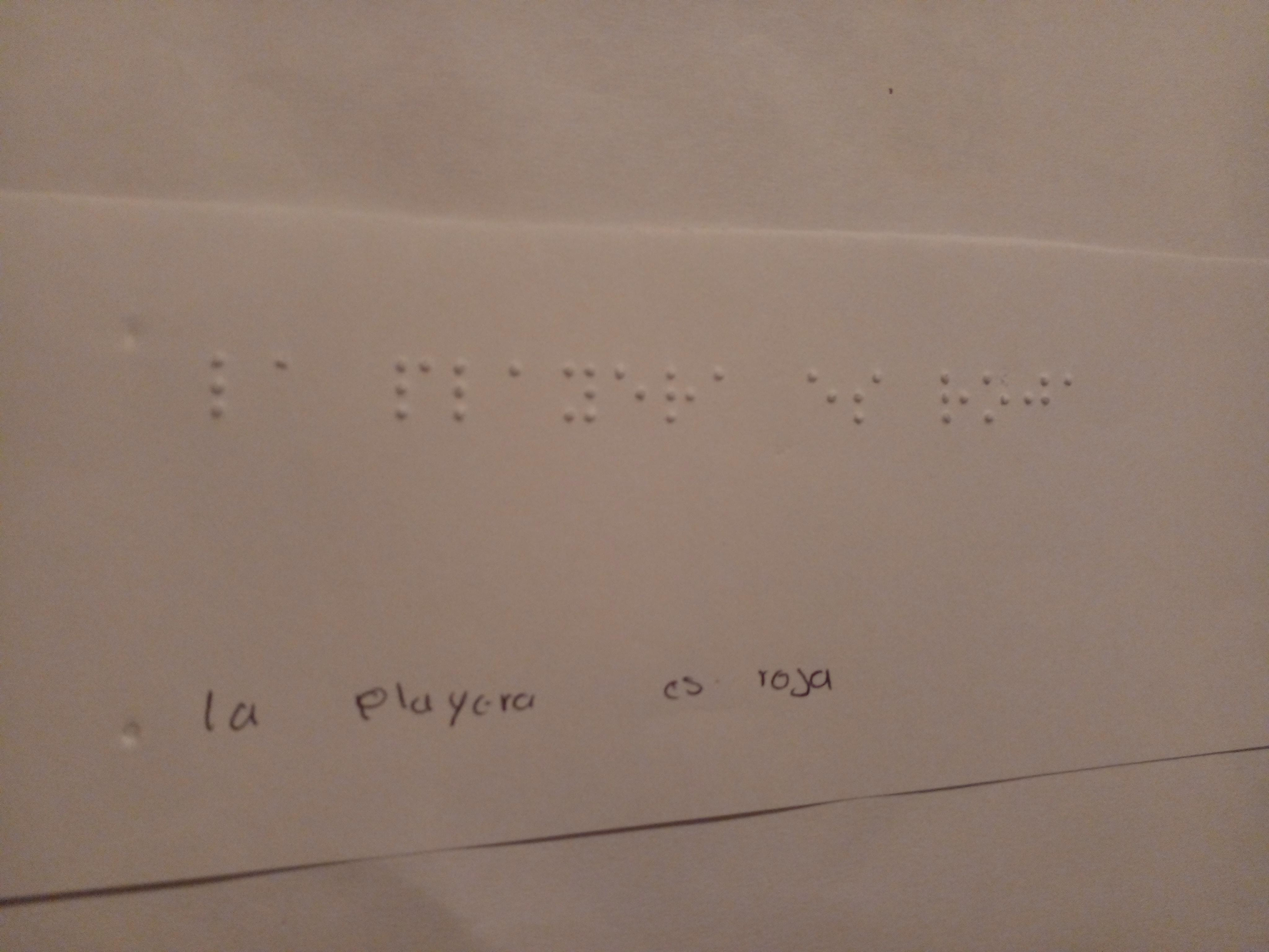a: (259, 353, 307, 400), (493, 353, 539, 394), (1056, 370, 1086, 411), (708, 363, 733, 401)
e: (798, 358, 847, 426), (607, 358, 652, 421)
j: (1016, 367, 1055, 428)
l: (446, 352, 483, 443), (203, 349, 239, 434)
o: (968, 369, 1018, 431)
p: (384, 336, 440, 432)
r: (928, 366, 973, 431), (658, 367, 699, 434)
s: (844, 364, 892, 440)
y: (556, 356, 607, 429)
